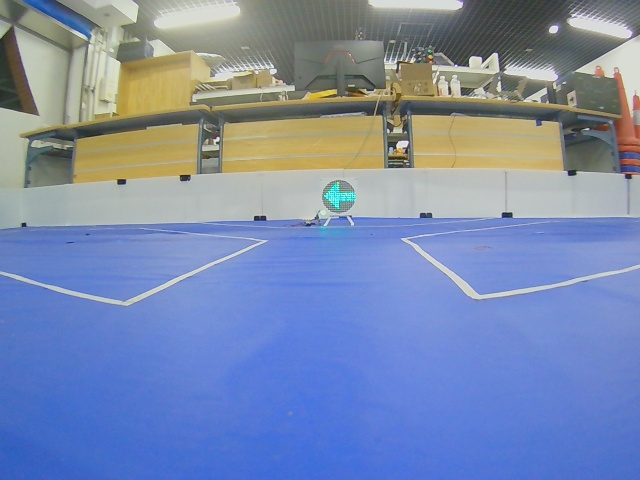left_green: (323, 180, 356, 213)
